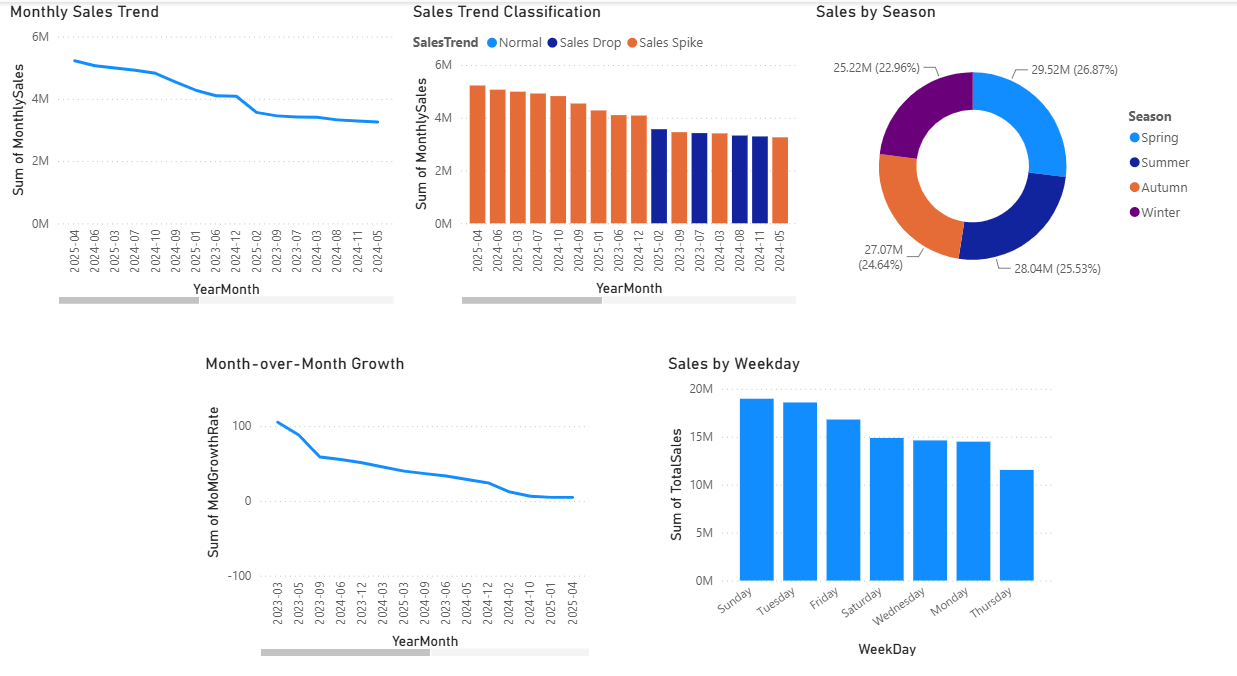

What the dashboard file says about the page in this screenshot:
{"tool":"powerbi","page":{"name":"Executive Sales Dashboard","canvas":[1280,720],"ordinal":0},"visuals":[{"type":"lineChart","title":"Monthly Sales Trend","fields":{"Category":["vw_monthly_sales_trends.YearMonth"],"Y":["Sum(vw_monthly_sales_trends.MonthlySales)"]},"box":[10,0,401.4,312.8],"z":0},{"type":"lineChart","title":"Month-over-Month Growth","fields":{"Category":["vw_monthly_sales_growth.YearMonth"],"Y":["Sum(vw_monthly_sales_growth.MoMGrowthRate)"]},"box":[210,359.9,401.4,312.8],"z":1},{"type":"columnChart","title":"Sales Trend Classification","fields":{"Category":["vw_monthly_sales_trends.YearMonth"],"Series":["vw_monthly_sales_trends.SalesTrend"],"Y":["Sum(vw_monthly_sales_trends.MonthlySales)"]},"box":[421,0,401,313],"z":2},{"type":"clusteredColumnChart","title":"Sales by Weekday","fields":{"Category":["vw_sales_trends_by_weekday_season.WeekDay"],"Y":["Sum(vw_sales_trends_by_weekday_season.TotalSales)"]},"box":[681.3,359.9,401.4,312.8],"z":3},{"type":"donutChart","title":"Sales by Season","fields":{"Category":["vw_sales_trends_by_weekday_season.Season"],"Y":["Sum(vw_sales_trends_by_weekday_season.TotalSales)"]},"box":[832,0,401,313],"z":4}]}

Visuals, with their boxes in screenshot pixels (x1, y1, x2, y2), scaled from the page's 1280x720 canvas onto the 1237x676 screenshot:
"Monthly Sales Trend" lineChart: pyautogui.locateOnScreen(10, 0, 398, 294)
"Month-over-Month Growth" lineChart: pyautogui.locateOnScreen(203, 338, 591, 632)
"Sales Trend Classification" columnChart: pyautogui.locateOnScreen(407, 0, 794, 294)
"Sales by Weekday" clusteredColumnChart: pyautogui.locateOnScreen(658, 338, 1046, 632)
"Sales by Season" donutChart: pyautogui.locateOnScreen(804, 0, 1192, 294)
